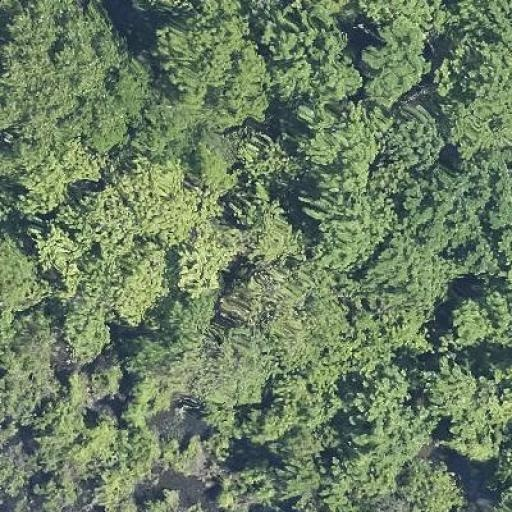tree-top: (34, 165, 232, 321), (0, 2, 144, 153), (131, 314, 280, 418), (151, 6, 270, 128), (341, 250, 441, 378), (235, 382, 333, 500), (339, 375, 425, 502), (252, 12, 360, 104), (296, 97, 386, 199), (237, 274, 334, 368), (433, 28, 512, 138), (401, 160, 486, 257), (66, 427, 157, 512), (312, 189, 400, 275), (352, 18, 426, 106), (233, 190, 298, 275), (0, 324, 57, 418), (443, 276, 511, 347), (0, 225, 41, 318), (377, 111, 446, 163)
